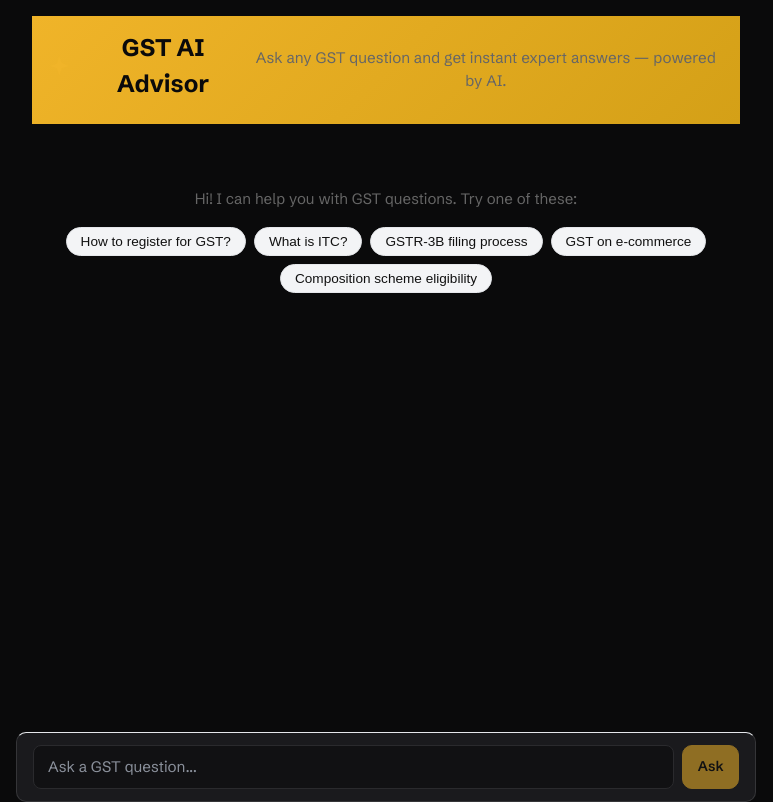
it: AdvisorPage › sends a question and displays the answer
In the field with placeholder "Ask a GST question...": (354, 767) [33, 745, 674, 789], type "How to register?"
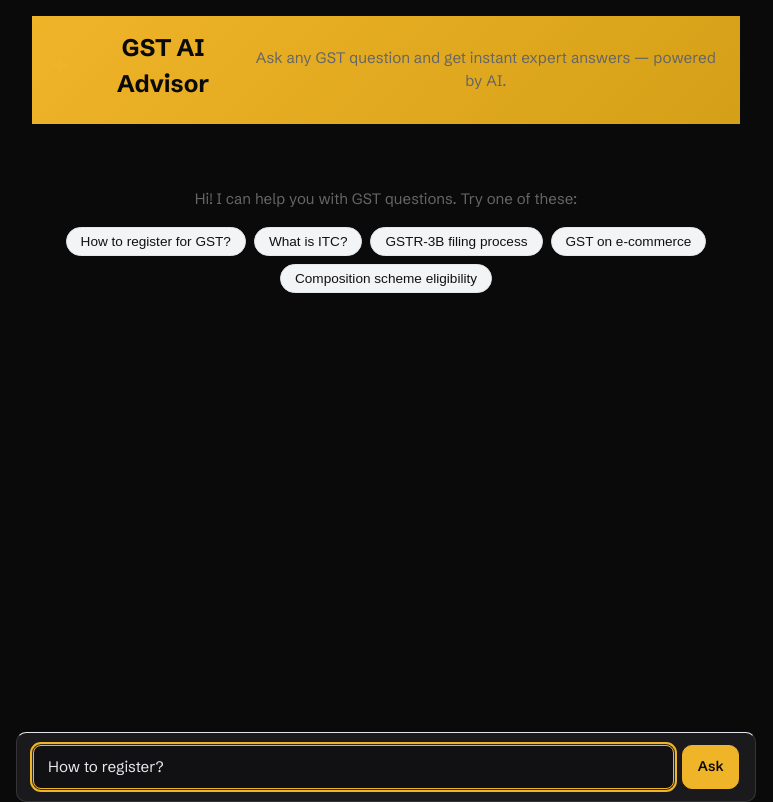
Click the button "Ask": (711, 767) [682, 745, 739, 789]
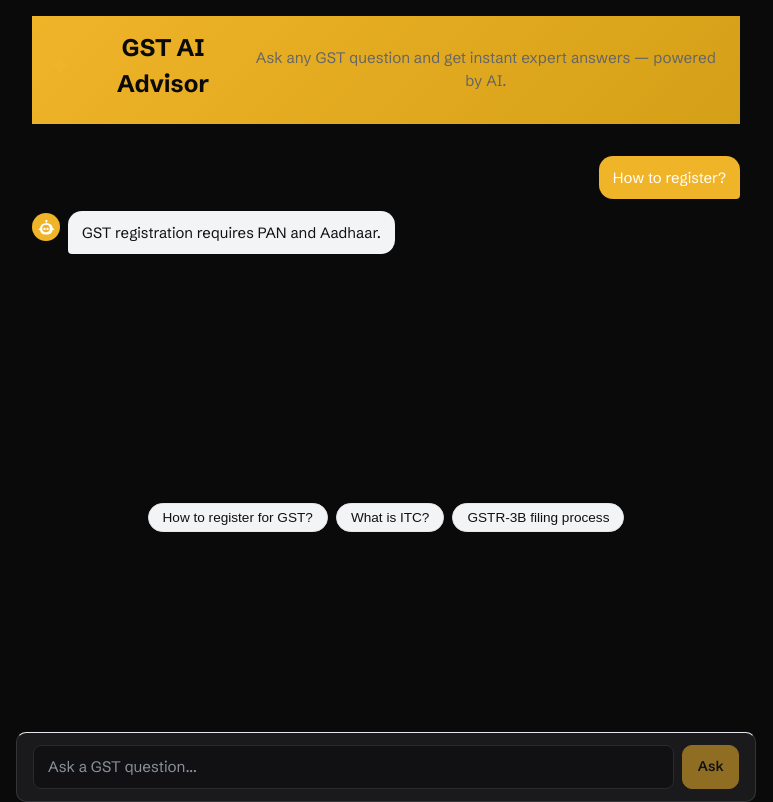
Now the text "GST registration requires PAN and Aadhaar." is shown, box [68, 211, 395, 254]
